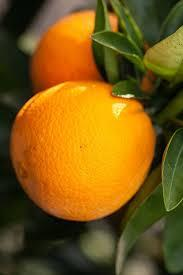orange: (0, 70, 177, 199), (48, 7, 148, 85)
